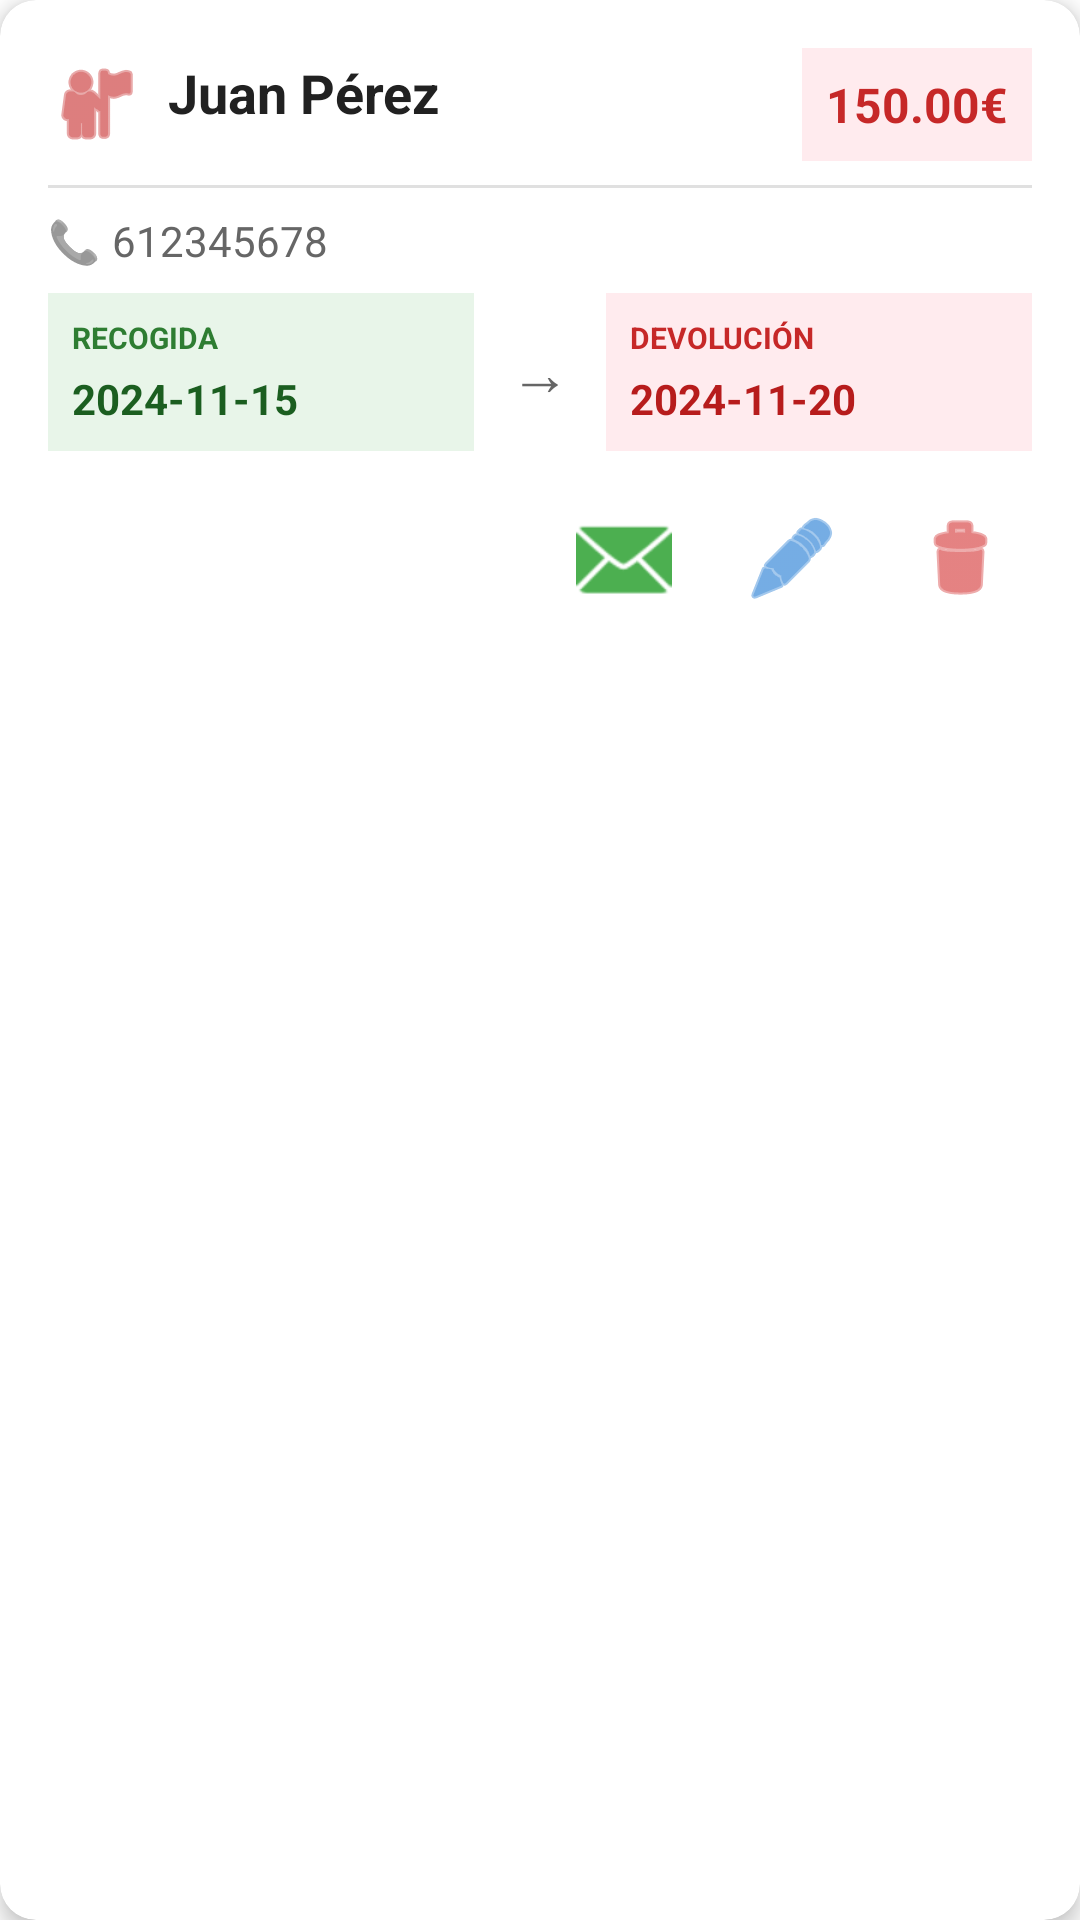

Icon click points for this 1080w x 1920h phone screenshot, format point (x, y):
Borrar Reserva: point (960, 557)
Editar Reserva: point (791, 558)
Enviar Reserva: point (624, 560)
